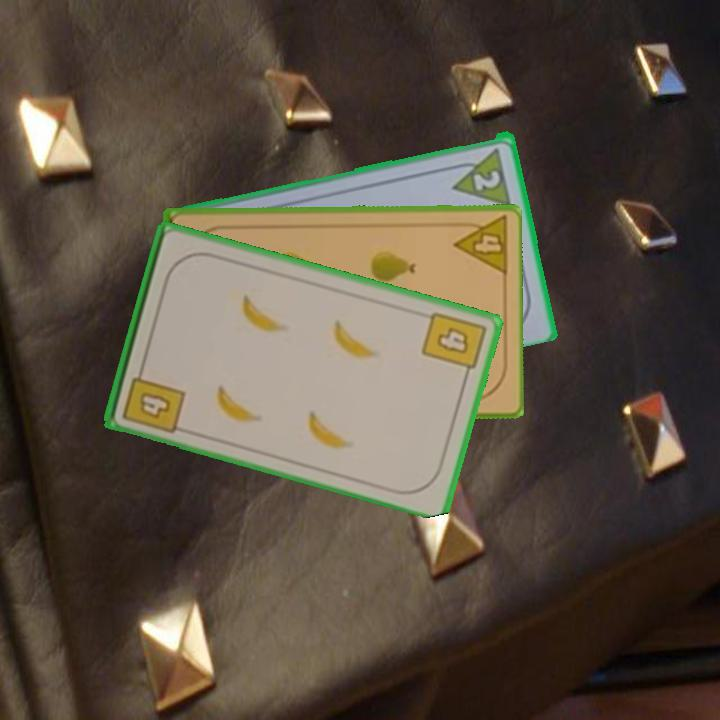2p: (470, 166, 504, 193)
4b: (418, 307, 489, 382), (119, 360, 188, 436)
4p: (448, 213, 510, 278)
